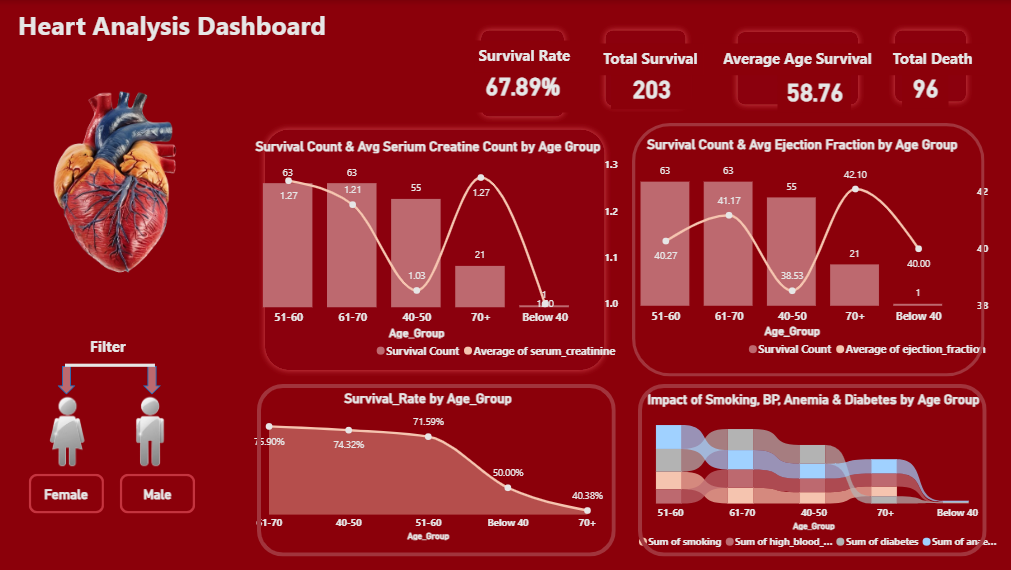

This screenshot's page, from the dashboard's own definition file:
{"tool":"powerbi","page":{"name":"Page 1","canvas":[1280,720],"ordinal":0},"visuals":[{"type":"shape","box":[599.1,30.2,120.9,124.7],"z":0,"group":"g8"},{"type":"shape","box":[755.9,30.2,117.2,111.5],"z":0,"group":"g7"},{"type":"shape","box":[1120.6,30.2,105.8,105.8],"z":0,"group":"g3"},{"type":"shape","box":[922.2,32.1,168.2,107.7],"z":0,"group":"g6"},{"type":"card","fields":{"Values":["heart_Disease_clinical_records_.Survival_Rate"]},"box":[599.1,71.8,120.9,69.9],"z":0,"group":"g4"},{"type":"card","fields":{"Values":["heart_Disease_clinical_records_.Total_Death"]},"box":[1137.6,81.3,58.6,54.8],"z":0,"group":"g2"},{"type":"card","fields":{"Values":["heart_Disease_clinical_records_.Total_Survivor"]},"box":[771,83.1,102,54.8],"z":0,"group":"g5"},{"type":"card","fields":{"Values":["heart_Disease_clinical_records_.Avg_Age_Survival"]},"box":[980.8,86.9,92.6,54.8],"z":0,"group":"g1"},{"type":"image","box":[3.8,102,274,257],"z":0},{"type":"shape","box":[326.9,155,444.1,319.4],"z":0,"group":"g9"},{"type":"lineClusteredColumnComboChart","title":"Survival Count & Avg Ejection Fraction by Age Group","fields":{"Category":["heart_Disease_clinical_records_.Age_Group"],"Y":["CountNonNull(heart_Disease_clinical_records_.DEATH_EVENT)"],"Y2":["Avg(heart_Disease_clinical_records_.ejection_fraction)"]},"box":[771,172,481.9,287.2],"z":0,"group":"g10"},{"type":"group","id":"g1","title":"Group 5","box":[907.1,54.8,206,86.9],"z":14,"group":"g6"},{"type":"group","id":"g2","title":"Group 7","box":[1120.6,54.8,120.9,81.3],"z":16,"group":"g3"},{"type":"group","id":"g3","title":"Group 8","box":[1120.6,30.2,120.9,105.8],"z":1000},{"type":"group","id":"g4","title":"Group 1","box":[599.1,51,138,90.7],"z":1000,"group":"g8"},{"type":"textbox","box":[599.1,51,138,39.7],"z":1000,"group":"g4"},{"type":"group","id":"g5","title":"Group 3","box":[755.9,54.8,132.3,83.2],"z":1000,"group":"g7"},{"type":"textbox","box":[755.9,54.8,132.3,39.7],"z":1000,"group":"g5"},{"type":"textbox","box":[907.1,54.8,206,39.7],"z":1000,"group":"g1"},{"type":"textbox","box":[1120.6,54.8,120.9,39.7],"z":1000,"group":"g2"},{"type":"shape","box":[797.5,155,444.1,319.4],"z":1000,"group":"g10"},{"type":"group","id":"g6","title":"Group 6","box":[907.1,32.1,206,109.6],"z":2000},{"type":"group","id":"g7","title":"Group 4","box":[755.9,30.2,132.3,111.5],"z":3000},{"type":"group","id":"g8","title":"Group 2","box":[599.1,30.2,138,124.7],"z":4000},{"type":"textbox","box":[18.9,3.8,408.2,52.9],"z":5000},{"type":"lineChart","fields":{"Category":["heart_Disease_clinical_records_.Age_Group"],"Y":["heart_Disease_clinical_records_.Survival_Rate"]},"box":[294.8,491.4,491.3,194.6],"z":5000,"group":"g12"},{"type":"group","id":"g9","title":"Group 10","box":[294.8,155,491.3,319.4],"z":6000},{"type":"lineClusteredColumnComboChart","title":"Survival Count & Avg Serium Creatine Count by Age Group","fields":{"Category":["heart_Disease_clinical_records_.Age_Group"],"Y":["CountNonNull(heart_Disease_clinical_records_.DEATH_EVENT)"],"Y2":["Avg(heart_Disease_clinical_records_.serum_creatinine)"]},"box":[294.8,173.9,491.3,287.2],"z":6000,"group":"g9"},{"type":"group","id":"g10","title":"Group 9","box":[771,155,481.9,319.4],"z":7000},{"type":"ribbonChart","title":"Impact of Smoking, BP, Anemia & Diabetes by Age Group","fields":{"Category":["heart_Disease_clinical_records_.Age_Group"],"Y":["Sum(heart_Disease_clinical_records_.smoking)","Sum(heart_Disease_clinical_records_.high_blood_pressure)","Sum(heart_Disease_clinical_records_.diabetes)","Sum(heart_Disease_clinical_records_.anaemia)"]},"box":[786.1,493.2,480,207.9],"z":7000,"group":"g11"},{"type":"group","id":"g11","title":"Group 11","box":[786.1,483.8,480,217.3],"z":8000},{"type":"group","id":"g12","title":"Group 12","box":[294.8,483.8,491.3,217.3],"z":9000},{"type":"advancedSlicerVisual","fields":{"Values":["heart_Disease_clinical_records_.Gender"]},"box":[32.1,591.5,220,60],"z":9000,"group":"g13"},{"type":"image","box":[35.9,493.2,100,100],"z":9001,"group":"g13"},{"type":"image","box":[139.8,493.2,100,100],"z":9002,"group":"g13"},{"type":"shape","box":[804.5,483.8,439.2,217.3],"z":9005,"group":"g11"},{"type":"shape","box":[324.9,483.8,451.9,217.3],"z":9006,"group":"g12"},{"type":"group","id":"g13","title":"Group 13","box":[32.1,493.2,219.2,156.9],"z":10000},{"type":"textbox","box":[109.6,417.6,79.4,43.5],"z":11000},{"type":"shape","box":[73.7,461.1,22.7,35.9],"z":12000},{"type":"shape","box":[181.4,461.1,22.7,35.9],"z":13000},{"type":"shape","box":[83.2,446,113.4,28.3],"z":14000}]}

Visuals, with their boxes in screenshot pixels (x1, y1, x2, y2), scaled from the page's 1280x720 canvas onto the 1011x570 screenshot:
shape: 473,24,569,123
shape: 597,24,690,112
shape: 885,24,969,108
shape: 728,25,861,111
card - heart_Disease_clinical_records_.Survival_Rate: 473,57,569,112
card - heart_Disease_clinical_records_.Total_Death: 899,64,945,108
card - heart_Disease_clinical_records_.Total_Survivor: 609,66,690,109
card - heart_Disease_clinical_records_.Avg_Age_Survival: 775,69,848,112
image: 3,81,219,284
shape: 258,123,609,376
"Survival Count & Avg Ejection Fraction by Age Group" lineClusteredColumnComboChart: 609,136,990,364
"Group 5" group: 716,43,879,112
"Group 7" group: 885,43,981,108
"Group 8" group: 885,24,981,108
"Group 1" group: 473,40,582,112
textbox: 473,40,582,72
"Group 3" group: 597,43,702,109
textbox: 597,43,702,75
textbox: 716,43,879,75
textbox: 885,43,981,75
shape: 630,123,981,376
"Group 6" group: 716,25,879,112
"Group 4" group: 597,24,702,112
"Group 2" group: 473,24,582,123
textbox: 15,3,337,45
lineChart - heart_Disease_clinical_records_.Age_Group x heart_Disease_clinical_records_.Survival_Rate: 233,389,621,543
"Group 10" group: 233,123,621,376
"Survival Count & Avg Serium Creatine Count by Age Group" lineClusteredColumnComboChart: 233,138,621,365
"Group 9" group: 609,123,990,376
"Impact of Smoking, BP, Anemia & Diabetes by Age Group" ribbonChart: 621,390,1000,555
"Group 11" group: 621,383,1000,555
"Group 12" group: 233,383,621,555
advancedSlicerVisual - heart_Disease_clinical_records_.Gender: 25,468,199,516
image: 28,390,107,470
image: 110,390,189,470
shape: 635,383,982,555
shape: 257,383,614,555
"Group 13" group: 25,390,198,515
textbox: 87,331,149,365
shape: 58,365,76,393
shape: 143,365,161,393
shape: 66,353,155,375
